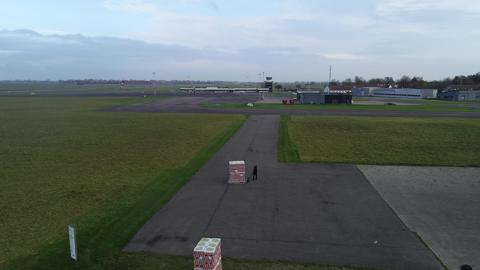RockwoolPallet: (228, 160, 247, 184)
